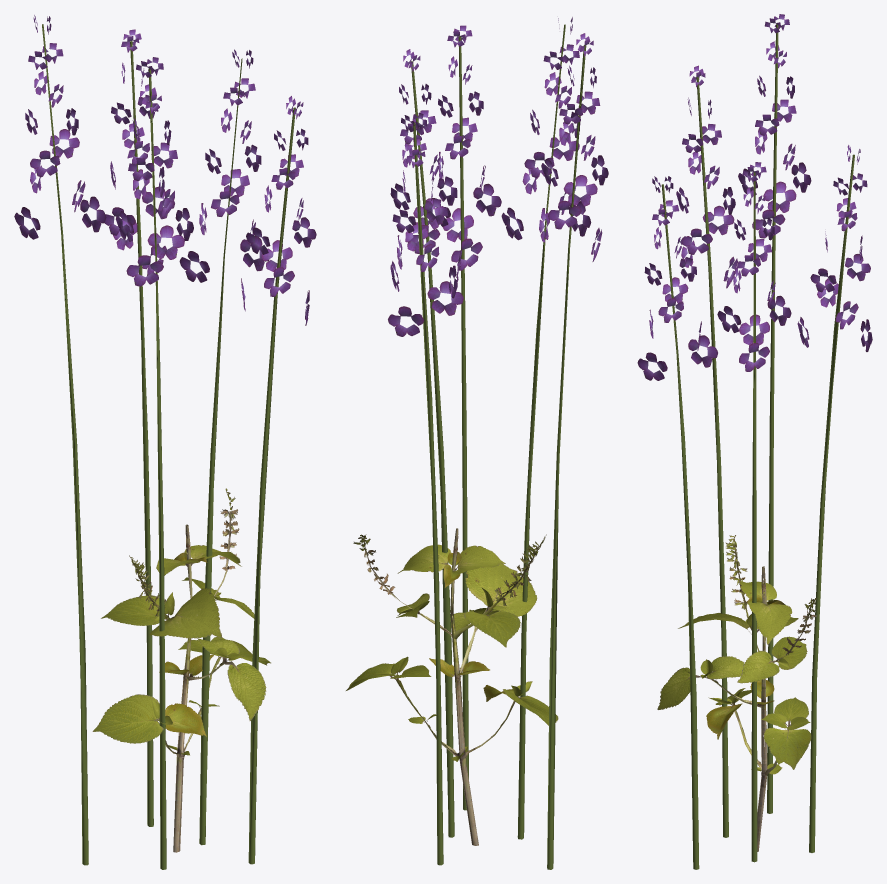
Rendered from flowers-low-packed.glb.
3 renders of one model, left to right at view 1: azimuth 30°, elevation 25°; view 2: azimuth 150°, elevation 25°; view 3: azimuth 270°, elevation 25°, orthographic. The views are drawn at different scales.
Parts seen in each view (by area): view 1: purple-flower-spires-low; view 2: purple-flower-spires-low; view 3: purple-flower-spires-low.
Boxes of the visible parts, left/top/right/bottom form: purple-flower-spires-low: left=14, top=15, right=316, bottom=869; purple-flower-spires-low: left=346, top=17, right=608, bottom=869; purple-flower-spires-low: left=637, top=14, right=872, bottom=869.
Size of the model in its own units: 0.221 by 0.7158 by 0.1956.
Materials: 3 (2 with a texture image).
